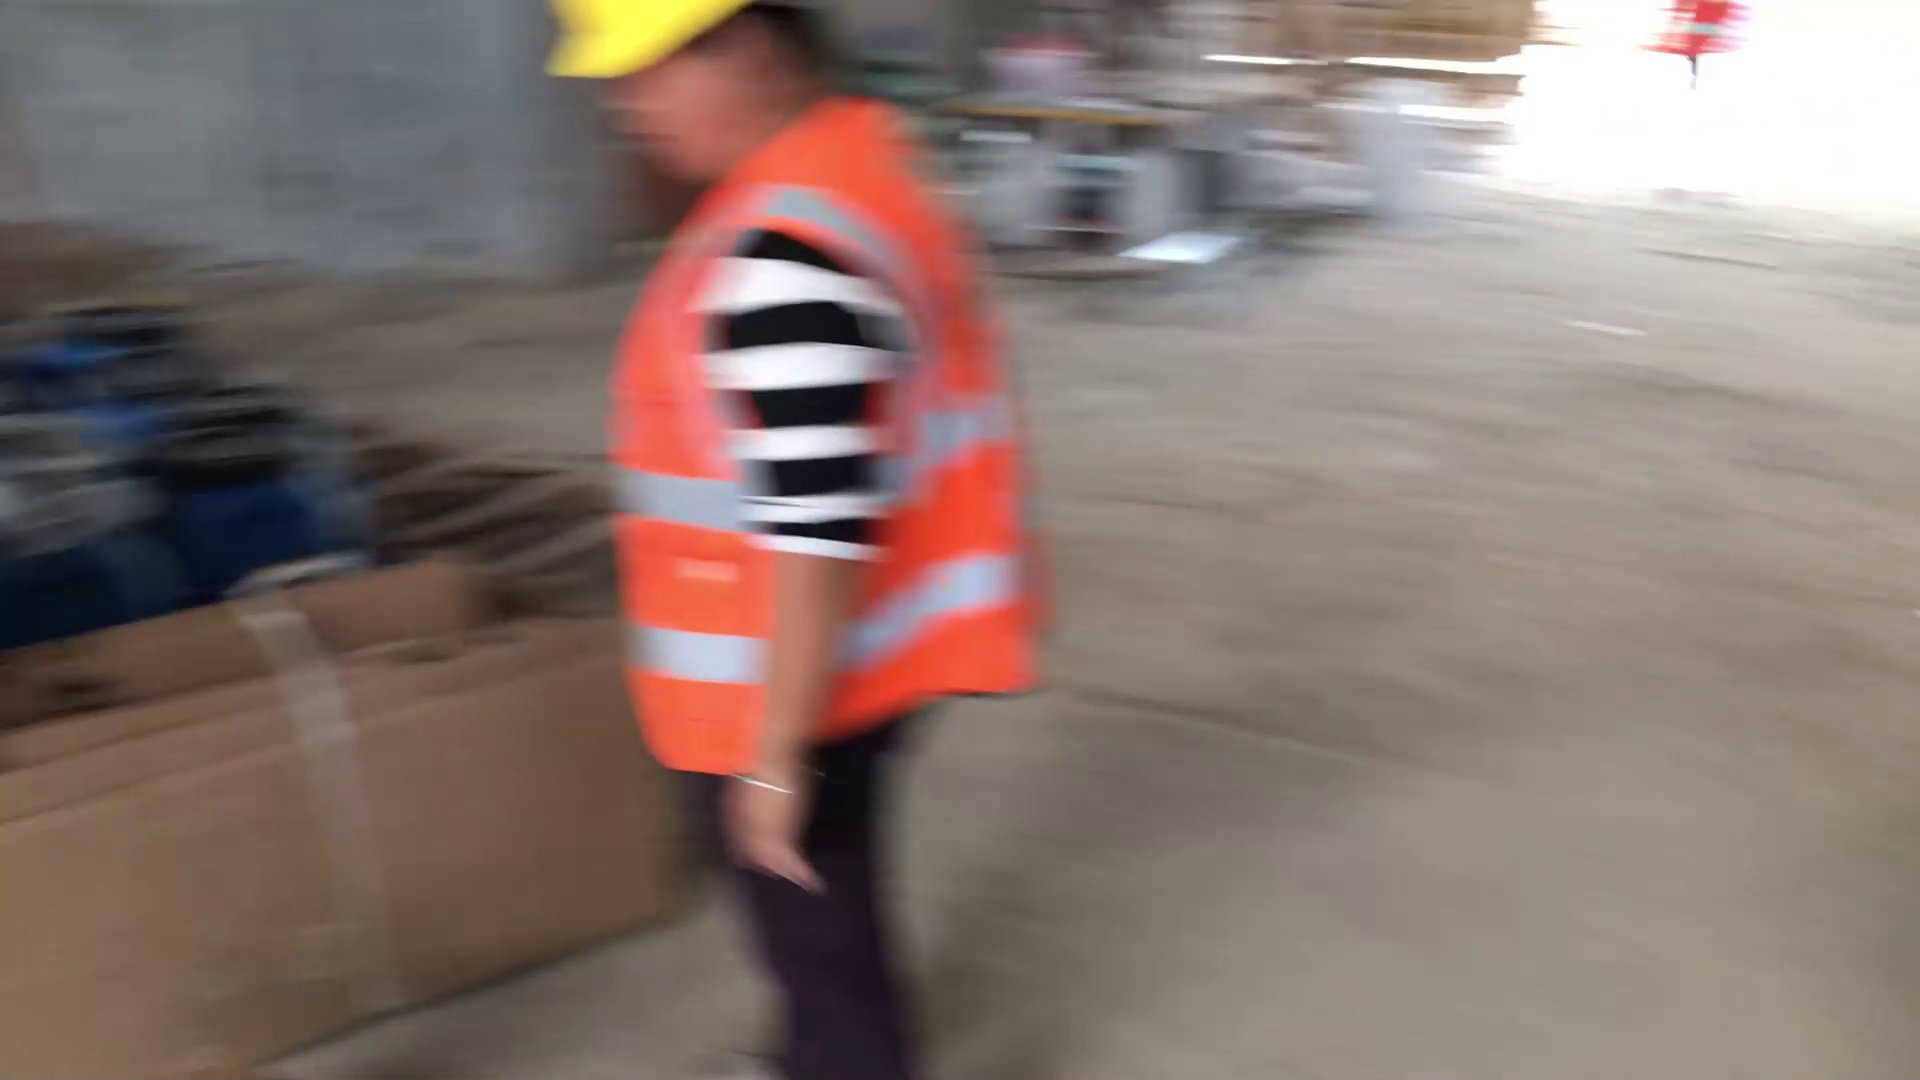helmet: (541, 2, 762, 85)
person: (514, 1, 1030, 1078)
vest: (588, 109, 1036, 798)
